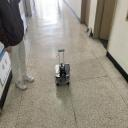cart: (55, 64, 71, 87)
